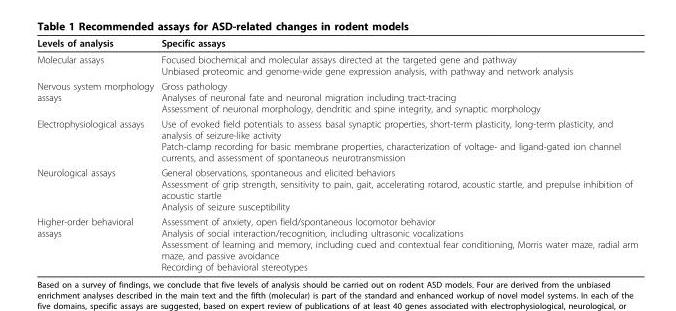table: (36, 36, 637, 272)
table column: (156, 36, 637, 272), (36, 36, 156, 272)
table column header: (36, 36, 637, 50)
table row: (36, 213, 637, 272), (36, 115, 637, 164), (36, 164, 637, 213), (36, 78, 637, 115), (36, 50, 637, 78), (36, 36, 637, 50)
